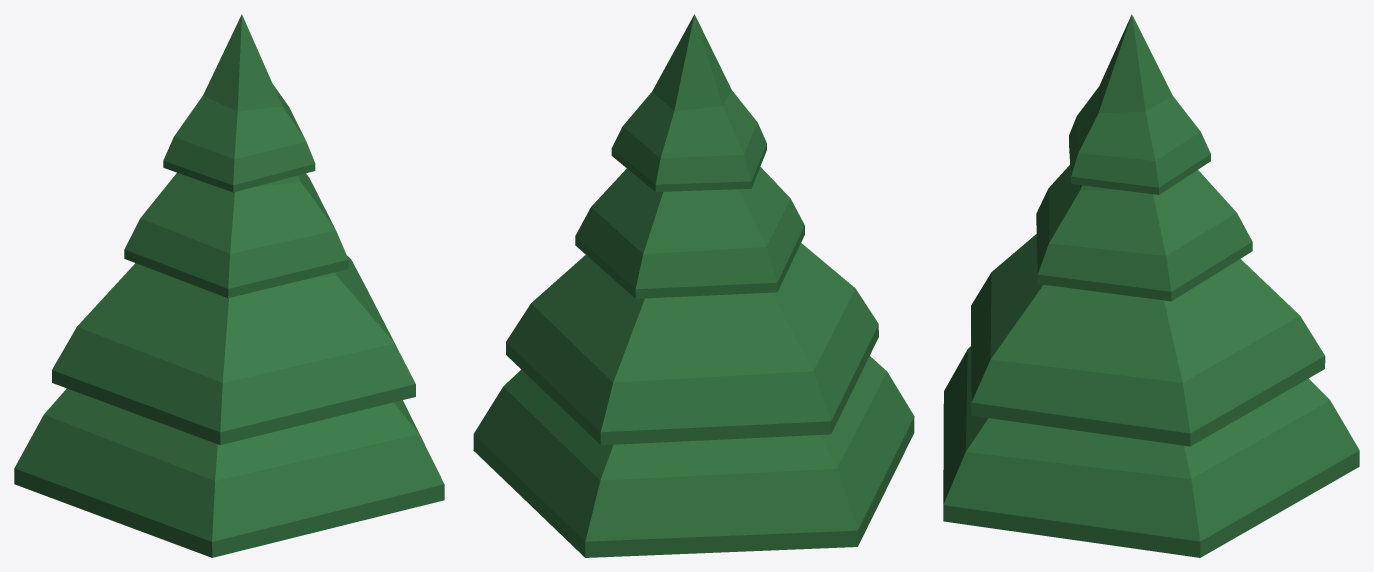
File: tree_5.fbx
3 views of the same model, side by side, from view 1: azimuth 30°, elevation 25°; view 2: azimuth 150°, elevation 25°; view 3: azimuth 270°, elevation 25° (orthographic). The views are drawn at different scales.
Parts seen in each view (by area): view 1: Cone.001, Cone, Cone.002, Cone.003; view 2: Cone.001, Cone, Cone.002, Cone.003; view 3: Cone.001, Cone, Cone.002, Cone.003.
Part boxes in pixels (<box>): Cone.001: <box>52,255,415,445</box>; Cone: <box>14,388,444,557</box>; Cone.002: <box>124,172,348,298</box>; Cone.003: <box>163,14,315,192</box>; Cone.001: <box>506,243,878,445</box>; Cone: <box>473,356,914,557</box>; Cone.002: <box>575,167,804,298</box>; Cone.003: <box>611,14,766,191</box>; Cone.001: <box>971,234,1325,446</box>; Cone: <box>943,346,1359,557</box>; Cone.002: <box>1036,165,1252,301</box>; Cone.003: <box>1069,14,1210,194</box>.
Size of the model in its own units: 129 by 160 by 122.
